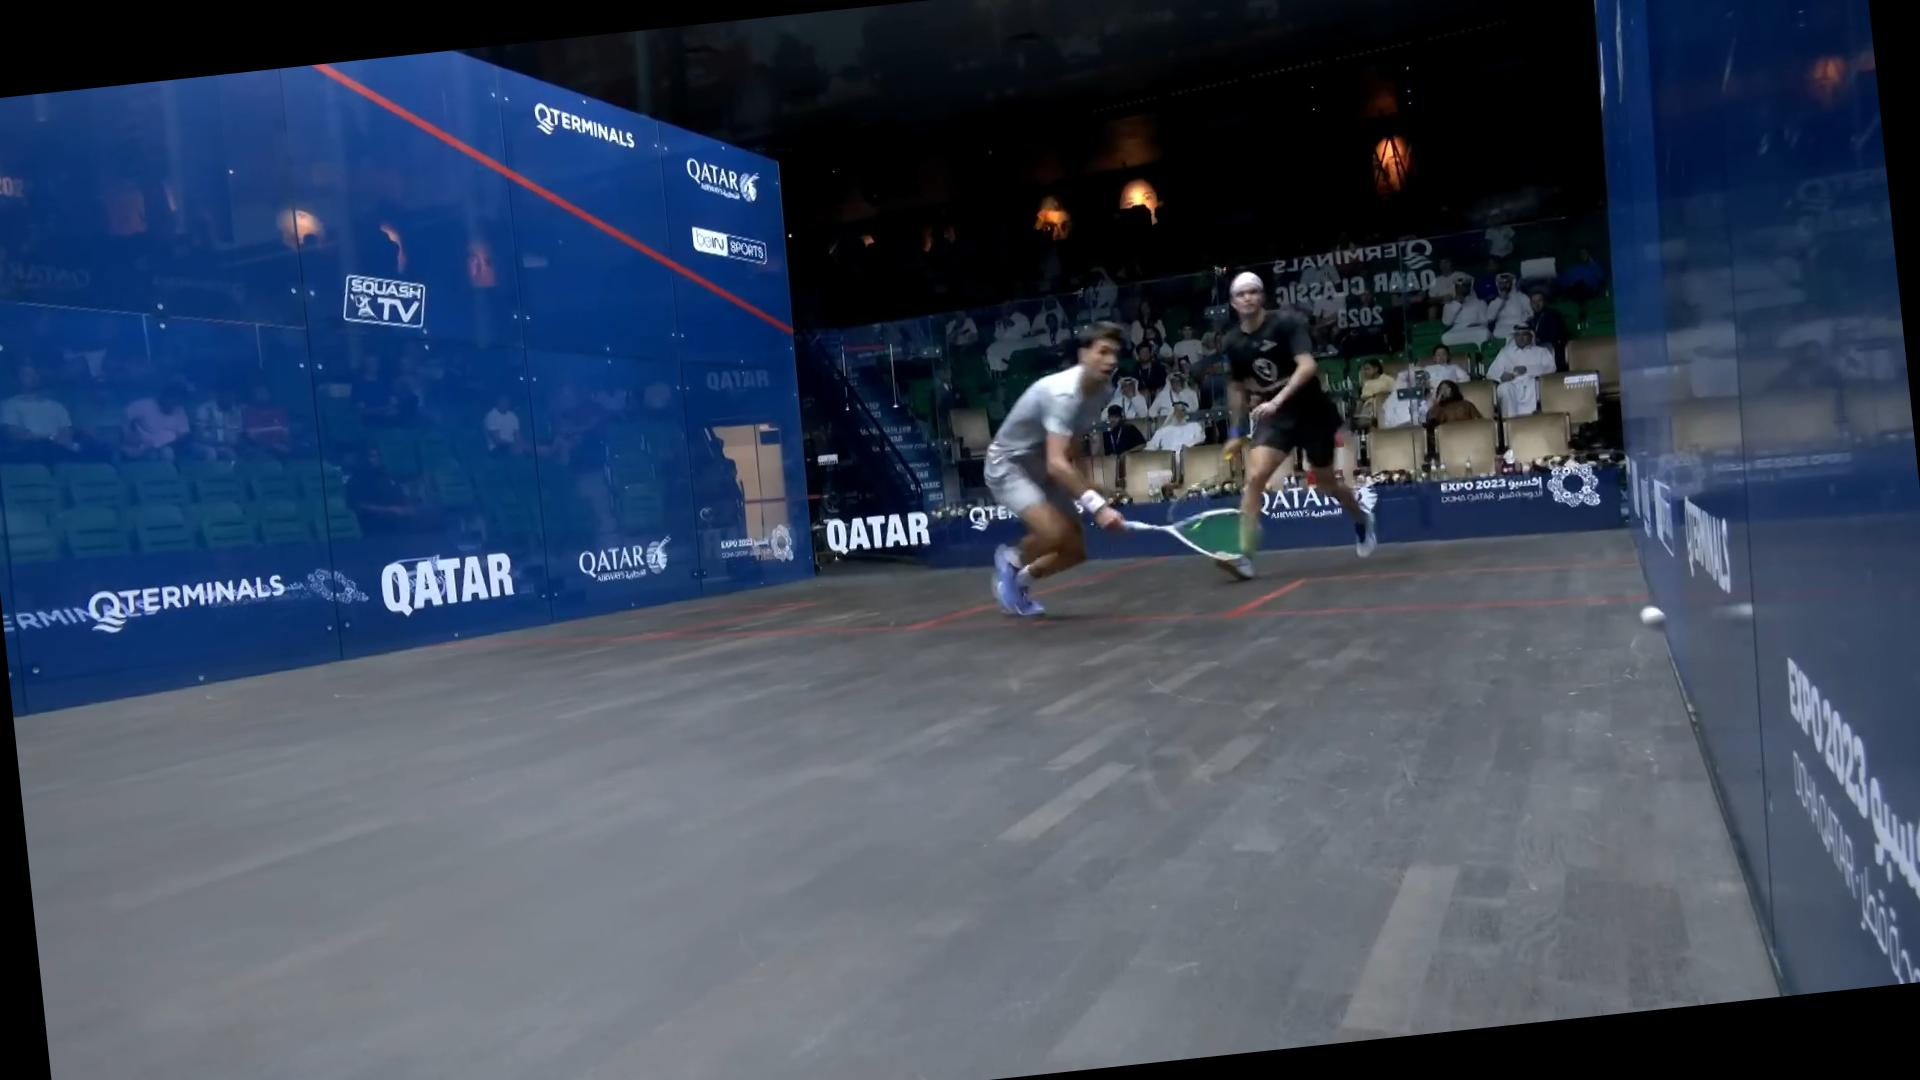Racket: (1124, 500, 1273, 579)
